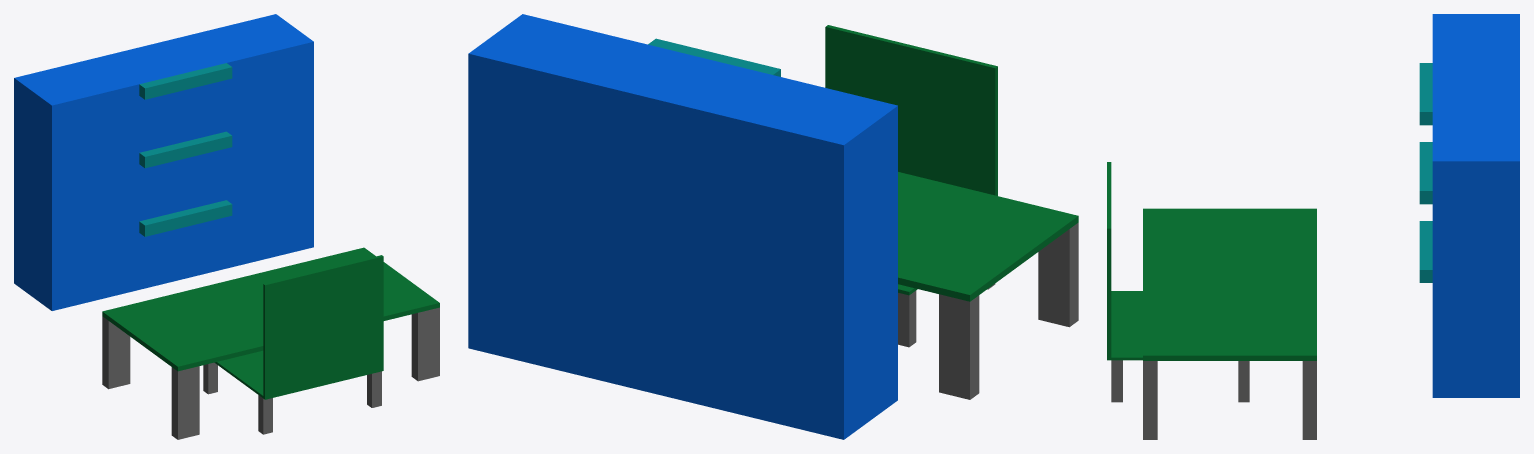
File: RoomProps.fbx
The picture shows the model from 3 angles, left to right: view 1: azimuth 30°, elevation 25°; view 2: azimuth 150°, elevation 25°; view 3: azimuth 270°, elevation 25°; orthographic projection. The views are drawn at different scales.
Parts seen in each view (by area): view 1: Cube, Cube.001, Cube.002; view 2: Cube, Cube.001, Cube.002; view 3: Cube, Cube.001, Cube.002.
Part boxes in pixels (x1=…): Cube: x1=14, y1=14, x2=313, y2=310; Cube.001: x1=102, y1=247, x2=439, y2=439; Cube.002: x1=203, y1=255, x2=383, y2=434; Cube: x1=468, y1=14, x2=897, y2=439; Cube.001: x1=898, y1=172, x2=1078, y2=399; Cube.002: x1=825, y1=25, x2=997, y2=347; Cube: x1=1419, y1=14, x2=1519, y2=397; Cube.001: x1=1143, y1=208, x2=1316, y2=439; Cube.002: x1=1107, y1=162, x2=1249, y2=402.
Bounding box in the file's own units: 800 × 713 × 948.
